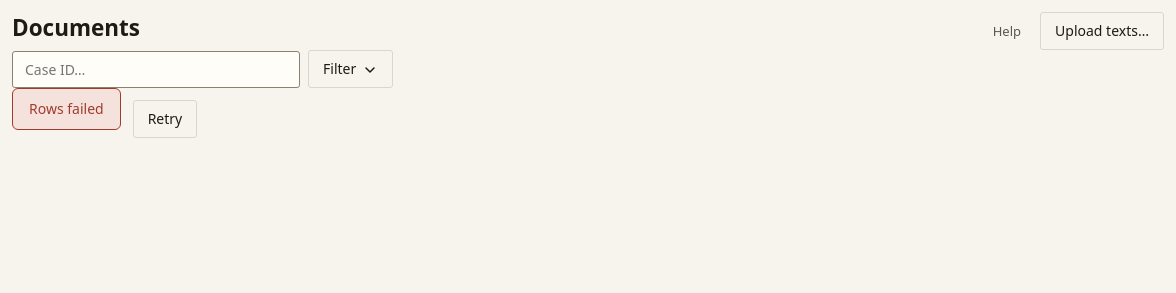
replaces the bar and table with an error and Retry
The image size is (1176, 293).
Click the button "Retry" at [165, 119], box [133, 100, 197, 138]
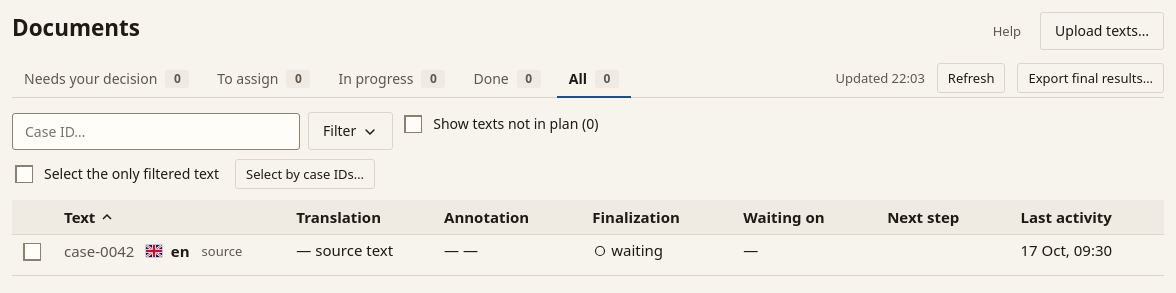
Expected: the table named "Documents" is shown, [12, 200, 1164, 276]
